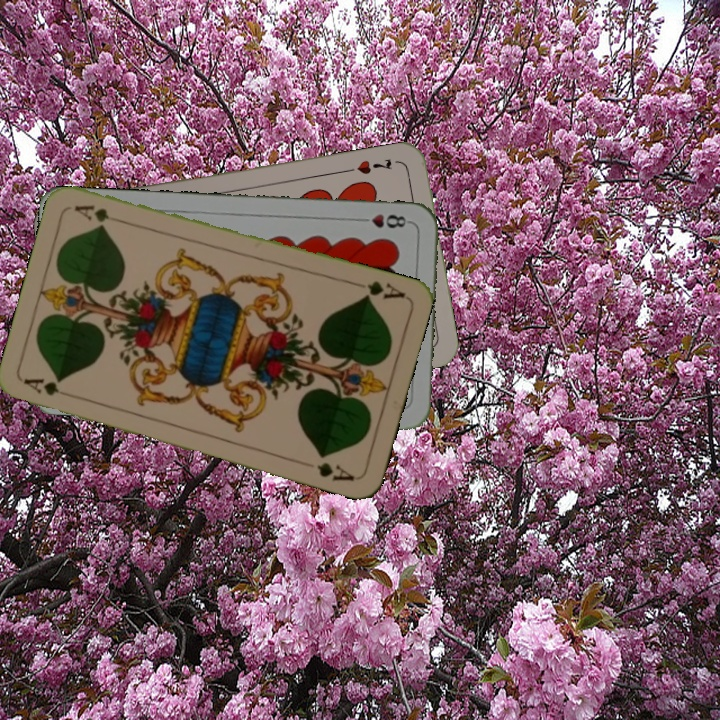GA: (21, 374, 79, 402), (359, 276, 408, 302)
H7: (353, 154, 395, 177)
H8: (354, 210, 413, 231)
